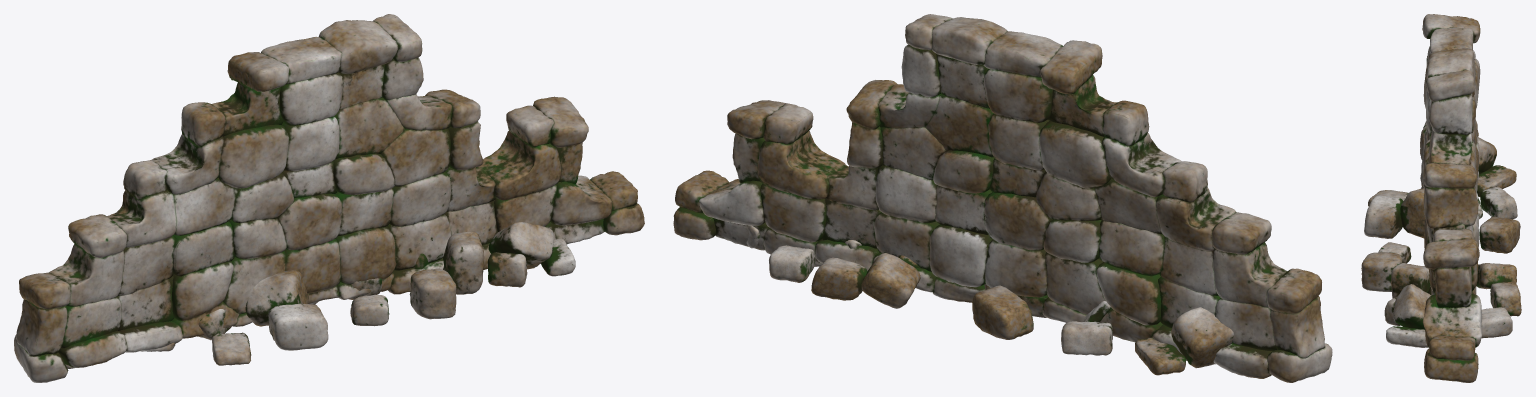
The model's file is BrokenBrickWall.fbx.
3 views of the same model, side by side, from view 1: azimuth 30°, elevation 25°; view 2: azimuth 150°, elevation 25°; view 3: azimuth 270°, elevation 25° (orthographic). The views are drawn at different scales.
Parts seen in each view (by area): view 1: Wall, Pieces; view 2: Wall, Pieces; view 3: Wall, Pieces.
Part boxes in pixels (left/top/right/bottom): Wall: left=14, top=14, right=644, bottom=382; Pieces: left=65, top=222, right=575, bottom=368; Wall: left=673, top=14, right=1332, bottom=382; Pieces: left=746, top=225, right=1233, bottom=375; Wall: left=1420, top=14, right=1482, bottom=382; Pieces: left=1361, top=137, right=1521, bottom=347.
Size of the model in its own units: 409 by 170 by 111.
2 materials, 2 textured.
